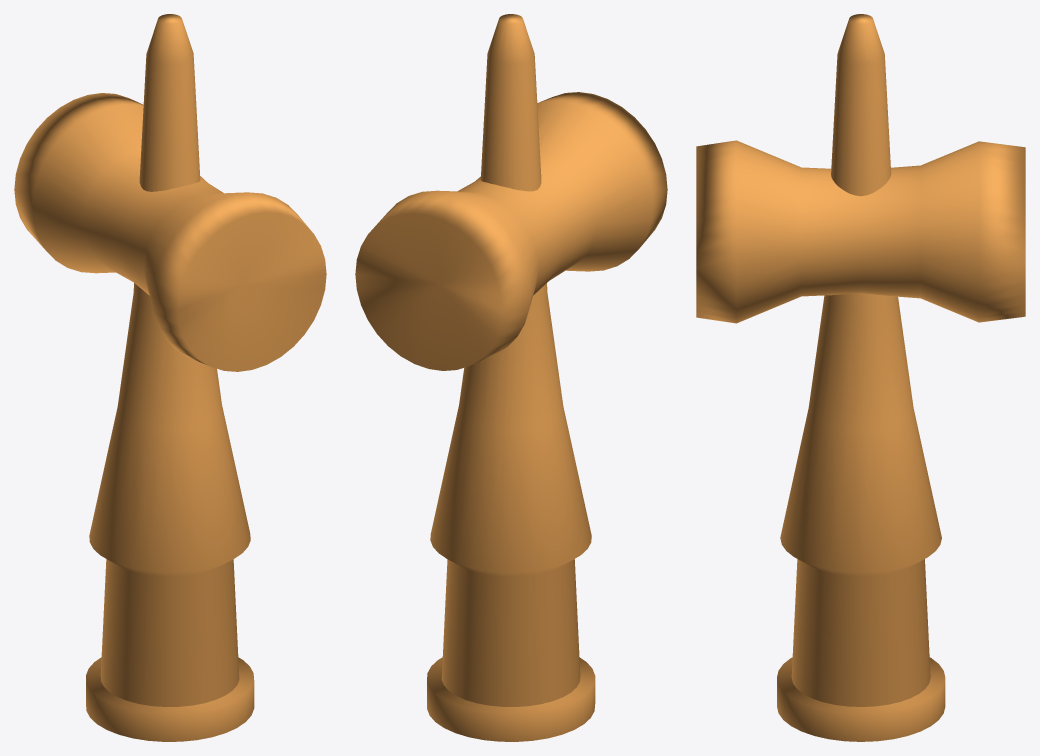
The model's file is kendama_rod.dae.
3 renders of one model, left to right at view 1: azimuth 30°, elevation 25°; view 2: azimuth 150°, elevation 25°; view 3: azimuth 270°, elevation 25°, orthographic.
Parts seen in each view (by area): view 1: kendama_body; view 2: kendama_body; view 3: kendama_body.
Boxes of the visible parts, box(x1,y1,x2,y2) form: kendama_body: box(14, 14, 326, 741); kendama_body: box(355, 14, 667, 741); kendama_body: box(696, 14, 1025, 741).
Bounding box in the file's own units: 1.23 × 2.21 × 5.1.
